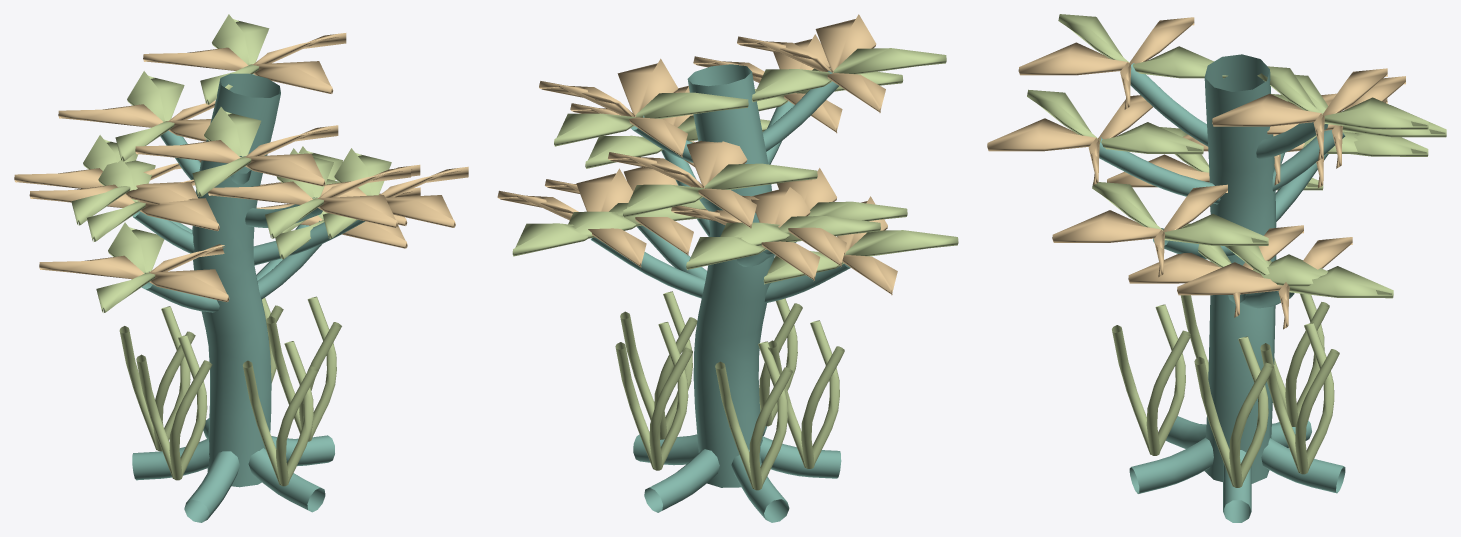
File: bio_canopy_tree_24_far.glb
The picture shows the model from 3 angles, left to right: view 1: azimuth 30°, elevation 25°; view 2: azimuth 150°, elevation 25°; view 3: azimuth 270°, elevation 25°; orthographic projection. The views are drawn at different scales.
Parts seen in each view (by area): view 1: Buttressed trunk, Broad canopy leaf.035, Broad canopy leaf.015, Broad canopy leaf.010, Broad canopy leaf.020, Spiral filament.006, Spiral filament.012, Spiral filament, Spiral filament.003, Broad canopy leaf.005, Broad canopy leaf.045, Broad canopy leaf.036 (+11 smaller); view 2: Buttressed trunk, Broad canopy leaf.035, Broad canopy leaf.015, Spiral filament.003, Spiral filament.009, Broad canopy leaf.030, Broad canopy leaf.016, Broad canopy leaf.031, Broad canopy leaf.036, Broad canopy leaf.040, Spiral filament.012, Broad canopy leaf.005 (+14 smaller); view 3: Buttressed trunk, Spiral filament, Spiral filament.006, Spiral filament.009, Broad canopy leaf.035, Broad canopy leaf.015, Broad canopy leaf.025, Broad canopy leaf.010, Broad canopy leaf.011, Broad canopy leaf.026, Broad canopy leaf.040, Broad canopy leaf.016 (+11 smaller).
Part boxes in pixels (x1,y1,x2,y2): Buttressed trunk: (132,73,365,522); Broad canopy leaf.035: (135,125,338,186); Broad canopy leaf.015: (143,33,346,93); Broad canopy leaf.010: (208,166,410,227); Broad canopy leaf.020: (39,244,229,302); Spiral filament.006: (242,341,318,486); Spiral filament.012: (136,335,212,480); Spiral filament: (266,296,341,441); Spiral filament.003: (119,306,195,451); Broad canopy leaf.005: (14,160,201,204); Broad canopy leaf.045: (29,179,219,231); Broad canopy leaf.036: (192,107,261,197); Buttressed trunk: (590,64,850,522); Broad canopy leaf.035: (737,14,885,112); Broad canopy leaf.015: (539,58,687,157); Spiral filament.003: (715,341,792,490); Spiral filament.009: (615,322,692,470); Broad canopy leaf.030: (608,140,756,228); Broad canopy leaf.016: (554,92,748,146); Broad canopy leaf.031: (623,163,817,217); Broad canopy leaf.036: (752,48,946,101); Broad canopy leaf.040: (497,168,646,267); Spiral filament.012: (768,320,844,468); Broad canopy leaf.005: (671,187,820,281); Buttressed trunk: (1099,54,1345,522); Spiral filament: (1194,336,1273,487); Spiral filament.006: (1112,304,1190,455); Spiral filament.009: (1260,322,1339,474); Broad canopy leaf.035: (1018,17,1194,109); Broad canopy leaf.015: (1212,68,1387,160); Broad canopy leaf.025: (1052,184,1227,277); Broad canopy leaf.010: (987,95,1152,185); Broad canopy leaf.011: (1027,89,1203,154); Broad canopy leaf.026: (1092,182,1268,245); Broad canopy leaf.040: (1177,237,1352,329); Broad canopy leaf.016: (1257,66,1428,129).
Bounding box in the file's own units: 3.06 × 3.05 × 3.05.
